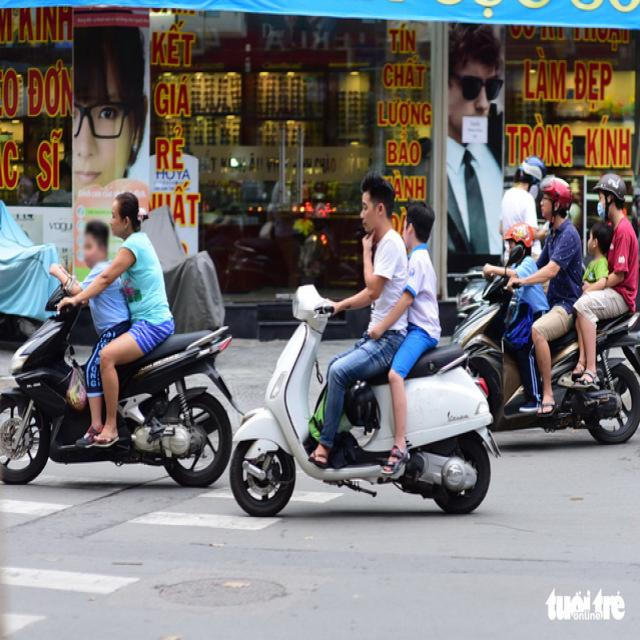no_helmet: (355, 166, 398, 240), (400, 191, 439, 250)
